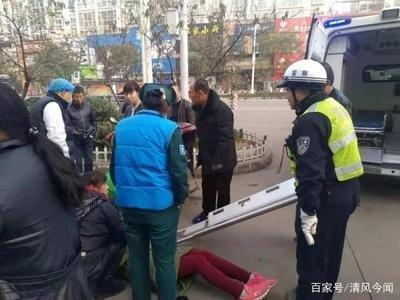Fall-Detected: (124, 240, 273, 298)
